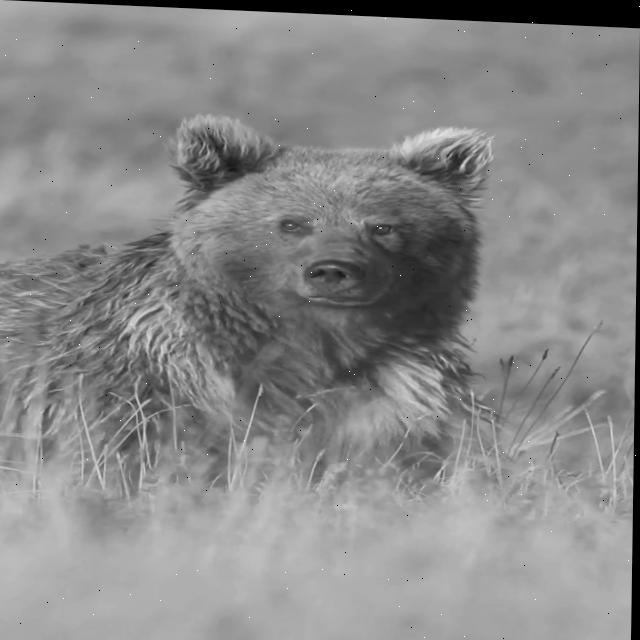Bear: (0, 103, 510, 528)
